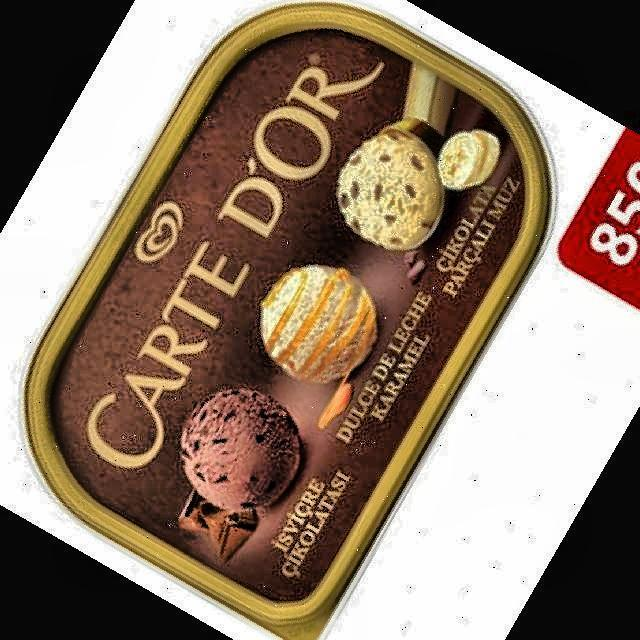plastic: (26, 5, 549, 640)
